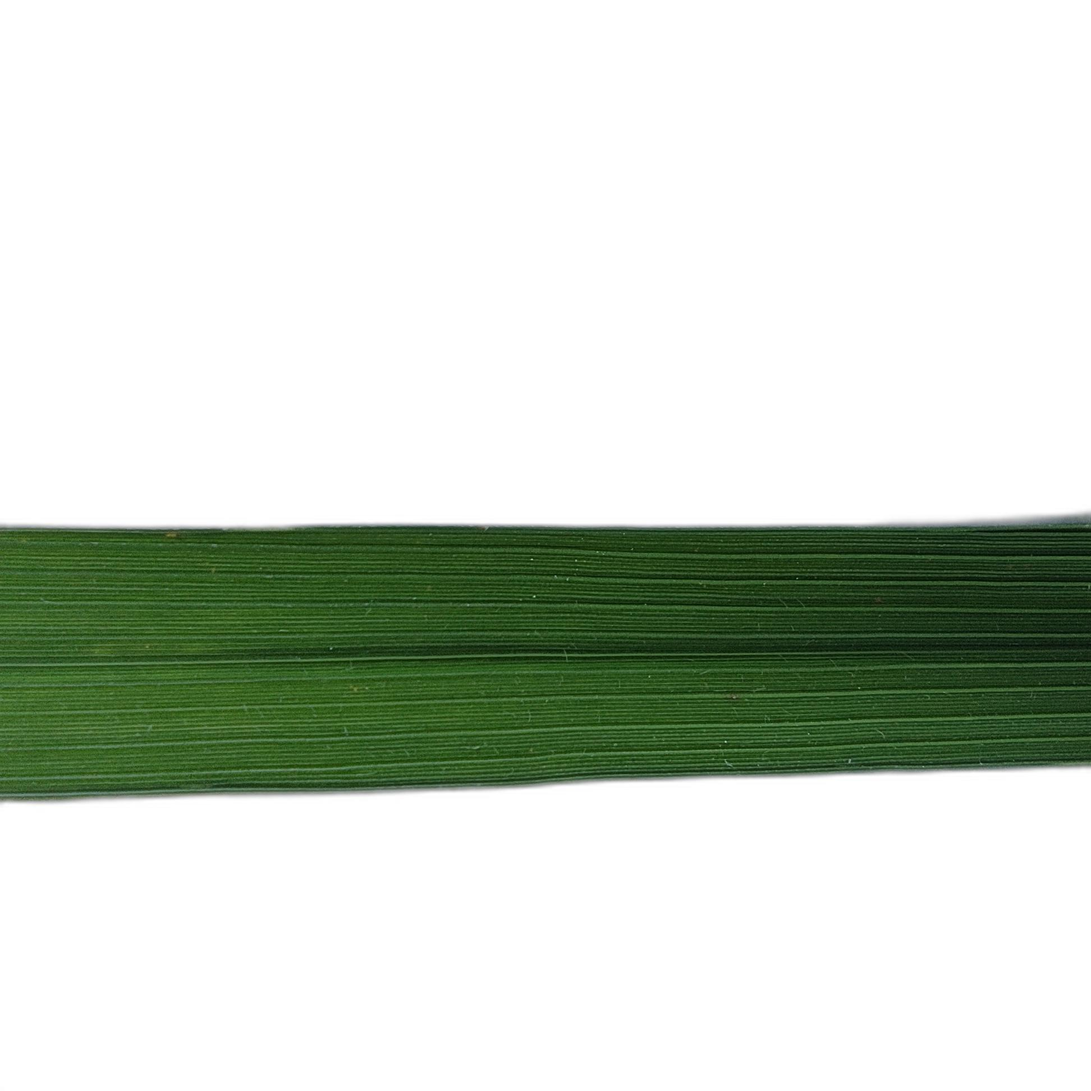Healthy: (2, 524, 1089, 797)
